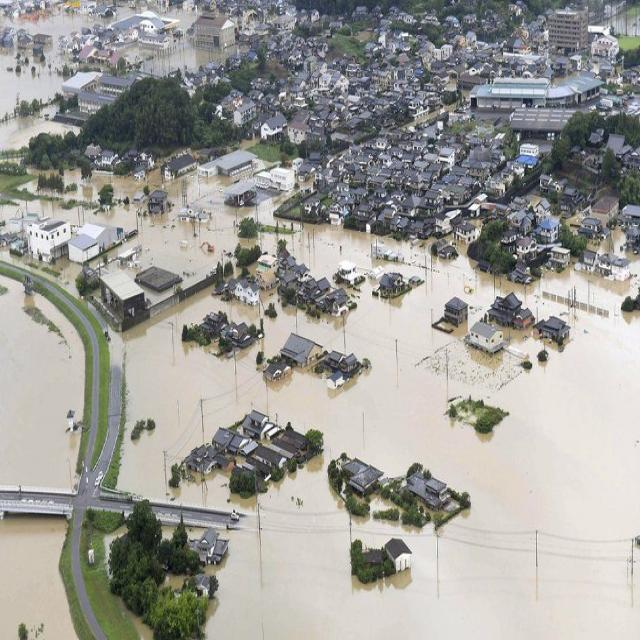house: (23, 214, 74, 267), (468, 82, 550, 112), (66, 221, 120, 266), (543, 7, 589, 58), (98, 270, 146, 318), (269, 331, 325, 370), (404, 471, 452, 508), (192, 15, 235, 56), (486, 292, 532, 330), (200, 150, 259, 178), (342, 457, 383, 496), (534, 311, 570, 350), (274, 427, 310, 461), (469, 320, 505, 354), (222, 180, 258, 212), (382, 538, 414, 574), (442, 294, 470, 331), (75, 92, 112, 116), (188, 444, 215, 476), (243, 409, 272, 438), (196, 528, 220, 562), (379, 272, 410, 298), (60, 72, 100, 92), (328, 348, 358, 374), (578, 216, 616, 236), (98, 75, 130, 98), (260, 116, 286, 144), (212, 424, 237, 452), (592, 196, 622, 219), (236, 278, 260, 306), (168, 154, 198, 176), (148, 188, 169, 218), (271, 166, 296, 190), (138, 16, 166, 36), (539, 216, 560, 242), (456, 222, 478, 246), (326, 288, 350, 308), (550, 245, 571, 266), (515, 238, 538, 255), (623, 203, 640, 225), (614, 258, 631, 280), (280, 270, 298, 288), (256, 170, 272, 188), (98, 150, 116, 166), (582, 248, 596, 266), (520, 143, 539, 156), (317, 276, 331, 292), (304, 277, 317, 292)
